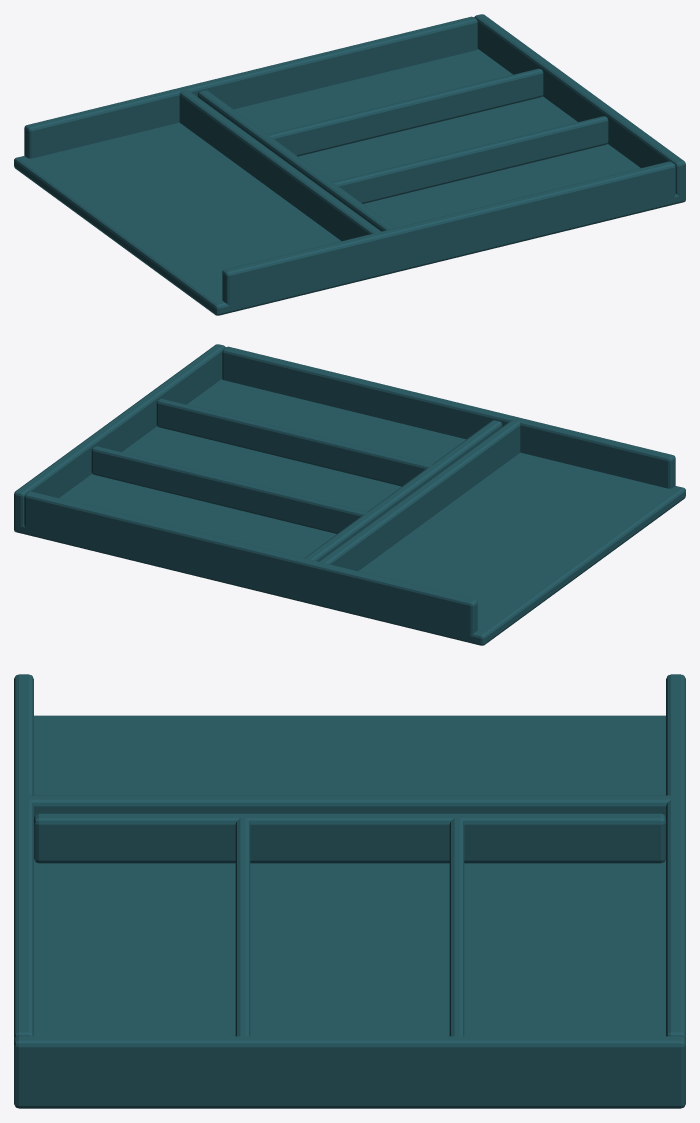
File: source-edit.glb
3 renders of one model, top to bottom at view 1: azimuth 30°, elevation 25°; view 2: azimuth 150°, elevation 25°; view 3: azimuth 270°, elevation 25°, orthographic. The views are drawn at different scales.
Visible parts, largest first — view 1: Tray_Base, Carry_Rim.003, Carry_Rim, Compartment_Divider, Compartment_Divider.002, Carry_Rim.001, Carry_Rim.002, Compartment_Divider.001; view 2: Tray_Base, Carry_Rim, Carry_Rim.003, Compartment_Divider.002, Compartment_Divider, Carry_Rim.001, Carry_Rim.002, Compartment_Divider.001; view 3: Tray_Base, Carry_Rim.002, Compartment_Divider.001, Carry_Rim.001, Carry_Rim, Carry_Rim.003, Compartment_Divider, Compartment_Divider.002.
Part boxes in pixels (x1=…): Tray_Base: x1=14, y1=49, x2=685, y2=315; Carry_Rim.003: x1=222, y1=161, x2=675, y2=305; Carry_Rim: x1=24, y1=16, x2=477, y2=158; Compartment_Divider: x1=267, y1=68, x2=543, y2=156; Compartment_Divider.002: x1=332, y1=116, x2=608, y2=203; Carry_Rim.001: x1=177, y1=87, x2=385, y2=269; Carry_Rim.002: x1=474, y1=14, x2=685, y2=196; Compartment_Divider.001: x1=197, y1=90, x2=394, y2=231; Tray_Base: x1=14, y1=379, x2=685, y2=645; Carry_Rim: x1=24, y1=491, x2=477, y2=635; Carry_Rim.003: x1=222, y1=346, x2=675, y2=488; Compartment_Divider.002: x1=156, y1=398, x2=432, y2=486; Compartment_Divider: x1=91, y1=446, x2=367, y2=533; Carry_Rim.001: x1=314, y1=417, x2=522, y2=599; Carry_Rim.002: x1=14, y1=344, x2=225, y2=526; Compartment_Divider.001: x1=305, y1=420, x2=502, y2=561; Tray_Base: x1=14, y1=715, x2=685, y2=1108; Carry_Rim.002: x1=14, y1=1036, x2=685, y2=1096; Compartment_Divider.001: x1=34, y1=813, x2=665, y2=863; Carry_Rim.001: x1=14, y1=795, x2=685, y2=817; Carry_Rim: x1=666, y1=674, x2=685, y2=1040; Carry_Rim.003: x1=14, y1=674, x2=33, y2=1040; Compartment_Divider: x1=449, y1=818, x2=464, y2=1036; Compartment_Divider.002: x1=235, y1=818, x2=250, y2=1036.
Bounding box in the file's own units: 0.36 × 0.03 × 0.27.
